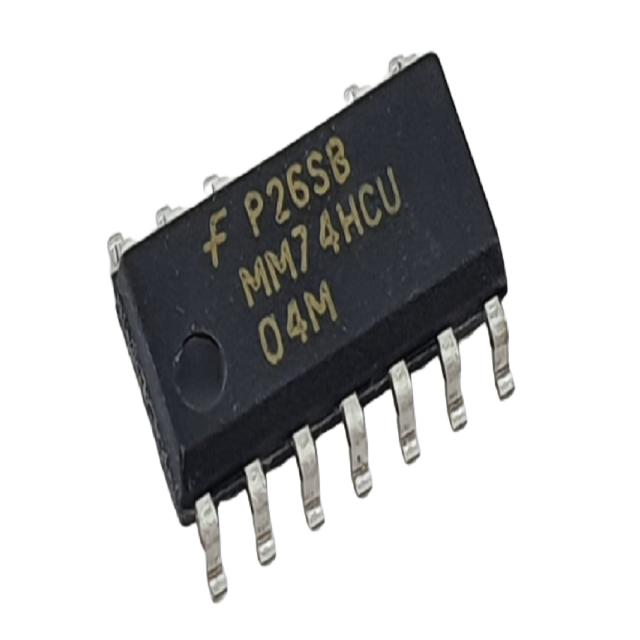IC: (108, 48, 516, 604)
